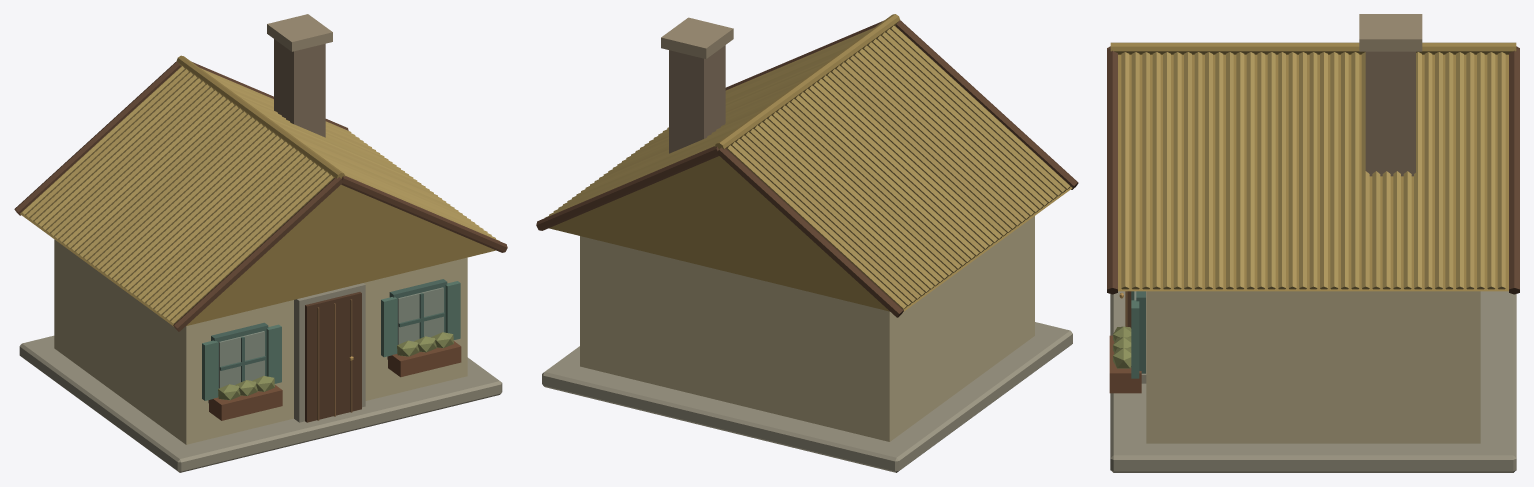
The model's file is build-thatch.glb.
3 renders of one model, left to right at view 1: azimuth 30°, elevation 25°; view 2: azimuth 150°, elevation 25°; view 3: azimuth 270°, elevation 25°, orthographic. The views are drawn at different scales.
Parts seen in each view (by area): view 1: SculptedModel; view 2: SculptedModel; view 3: SculptedModel.
Part boxes in pixels (x1,y1,x2,y2): SculptedModel: [14, 14, 507, 472]; SculptedModel: [536, 14, 1078, 472]; SculptedModel: [1107, 14, 1519, 472].
Bounding box in the file's own units: 5.02 × 4.45 × 4.26.
